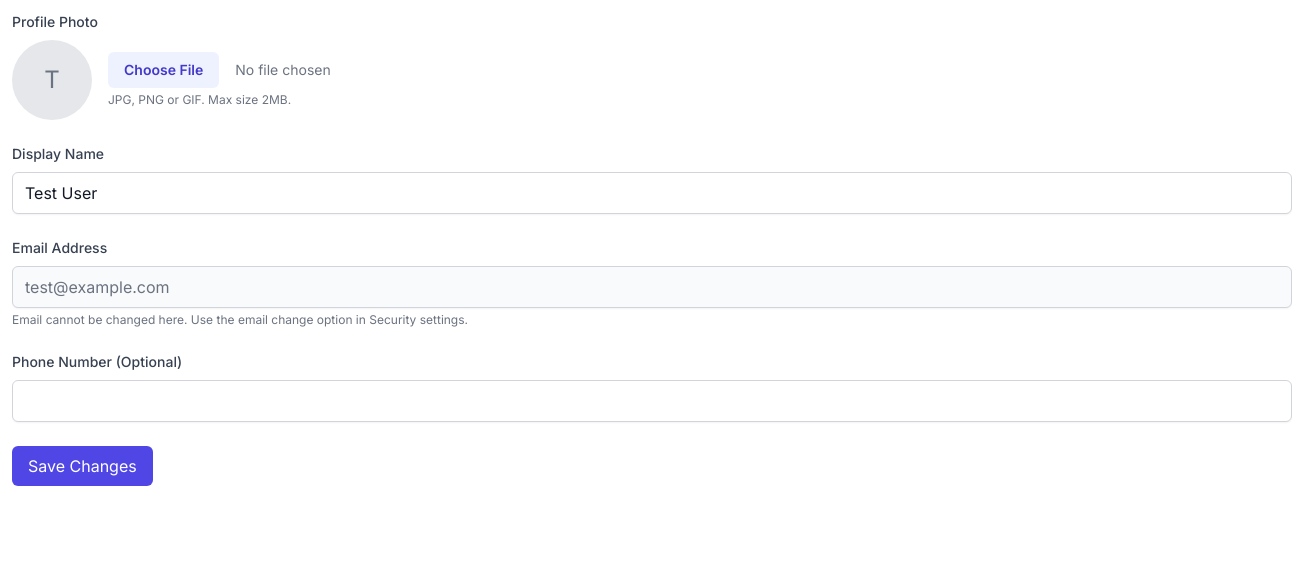
Test: ProfileForm › should display error message on failure
Click the button "Save Changes" at (82, 466), box [12,446,153,486]
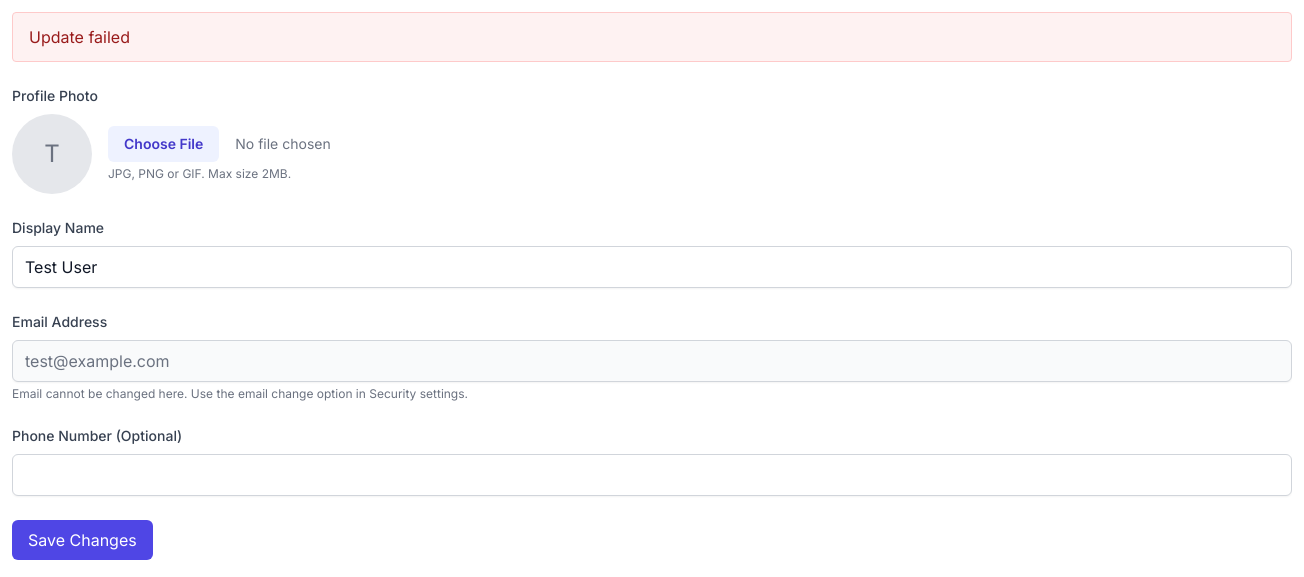
Now the text "Update failed" is shown, box [12,12,1292,62]
